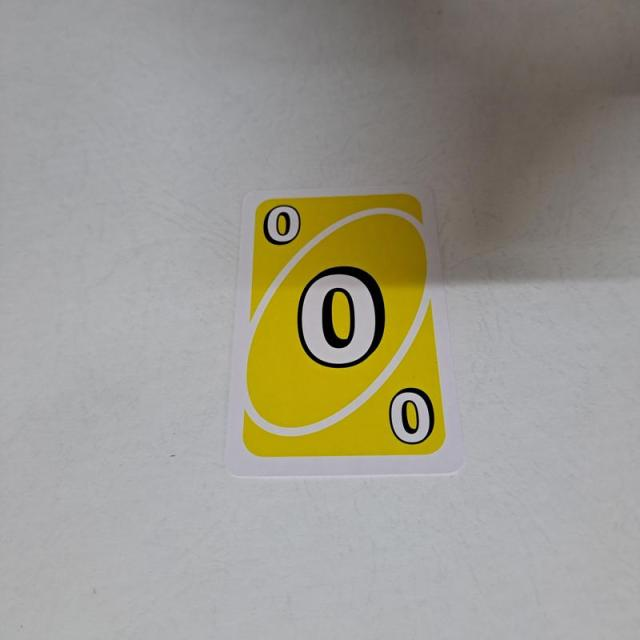Number_0: (260, 196, 307, 252)
Yellow_Card: (236, 191, 451, 465)
